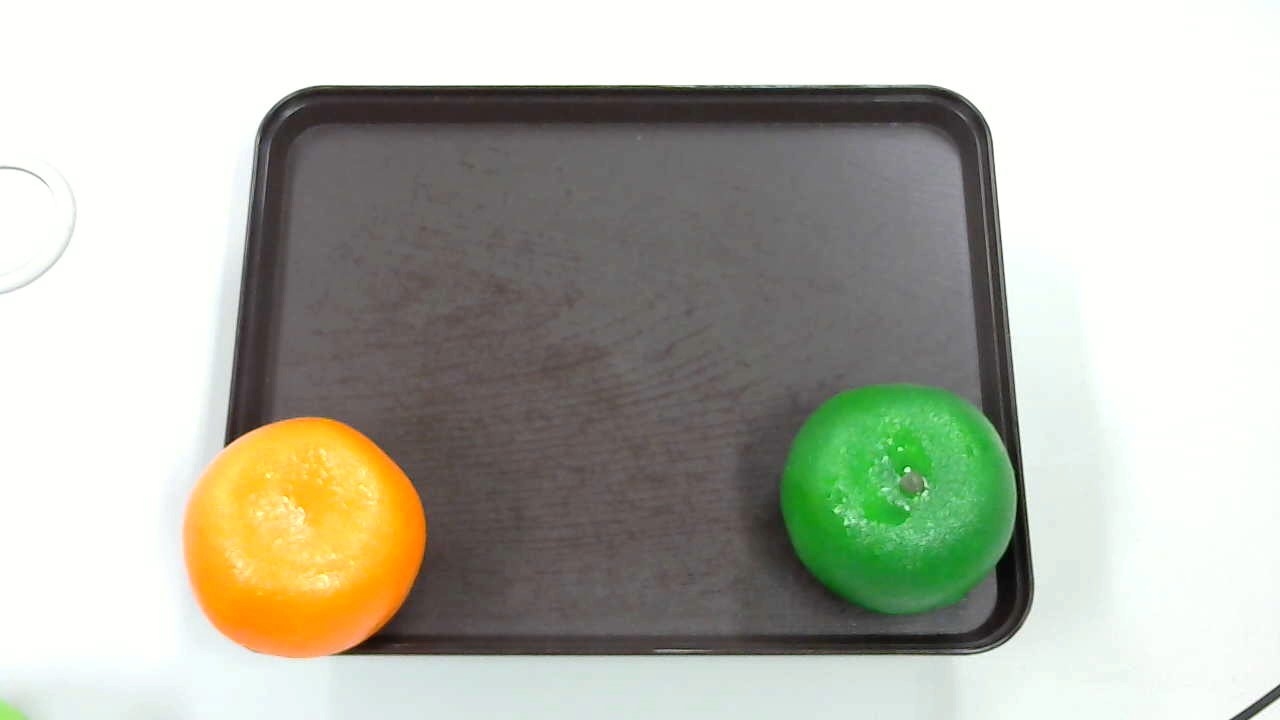green orange: (775, 381, 1021, 614)
orange: (173, 411, 431, 662)
